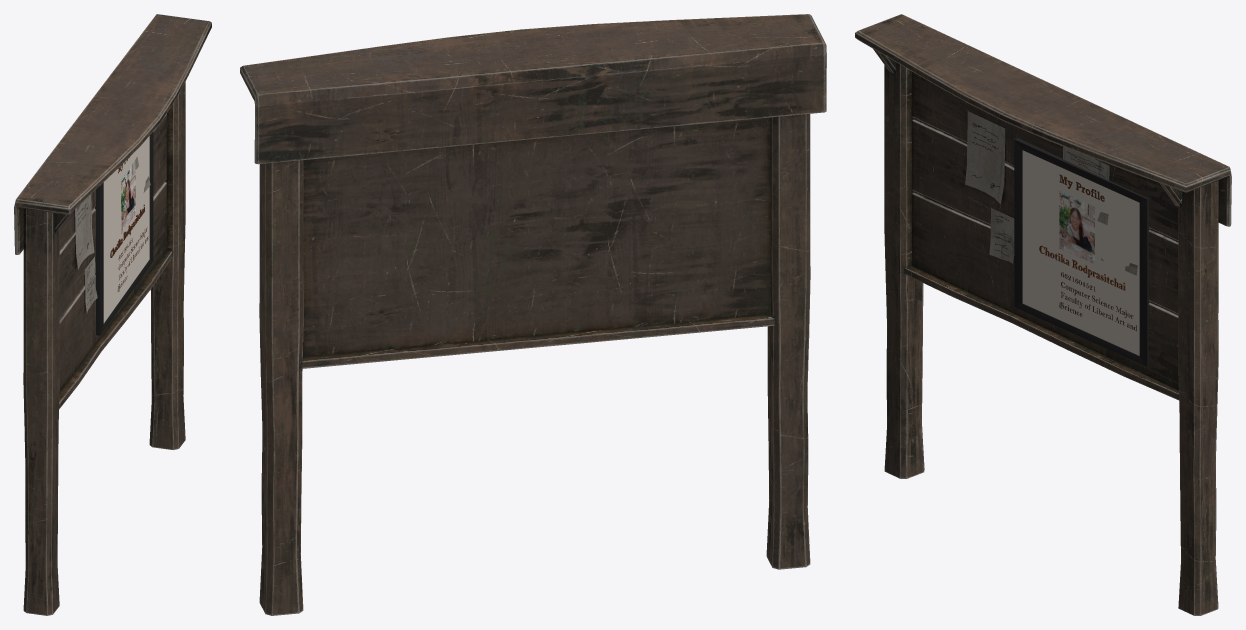
Rendered from noticeBoard.glb.
The picture shows the model from 3 angles, left to right: view 1: azimuth 30°, elevation 25°; view 2: azimuth 150°, elevation 25°; view 3: azimuth 270°, elevation 25°; orthographic projection. The views are drawn at different scales.
Parts seen in each view (by area): view 1: Cube__0.001, Box046_Material #350_0.003, frame.001, Cube.001, Text.007; view 2: Cube__0.001; view 3: Cube__0.001, Box046_Material #350_0.003, frame.001, Cube.001, Text.007, Text.008.
Boxes of the visible parts, left/top/right/bottom form: Cube__0.001: left=14, top=14, right=211, bottom=615; Box046_Material #350_0.003: left=103, top=136, right=149, bottom=323; frame.001: left=95, top=132, right=153, bottom=335; Cube.001: left=121, top=160, right=135, bottom=233; Text.007: left=118, top=227, right=148, bottom=288; Cube__0.001: left=240, top=14, right=826, bottom=615; Cube__0.001: left=855, top=14, right=1231, bottom=615; Box046_Material #350_0.003: left=1022, top=150, right=1139, bottom=355; frame.001: left=1014, top=138, right=1150, bottom=366; Cube.001: left=1059, top=191, right=1094, bottom=264; Text.007: left=1061, top=272, right=1136, bottom=331; Text.008: left=1039, top=245, right=1125, bottom=290.
Size of the model in its own units: 2.27 by 2.73 by 2.11.
Materials: 11 (5 with a texture image).
